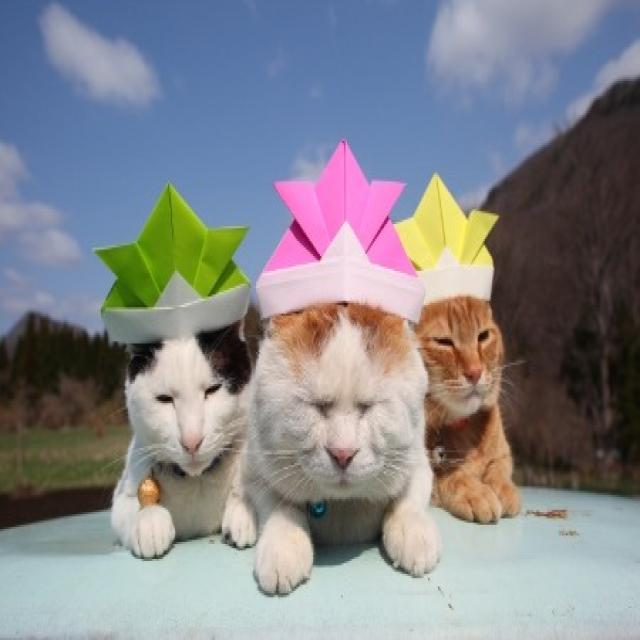cat: (95, 118, 522, 608)
